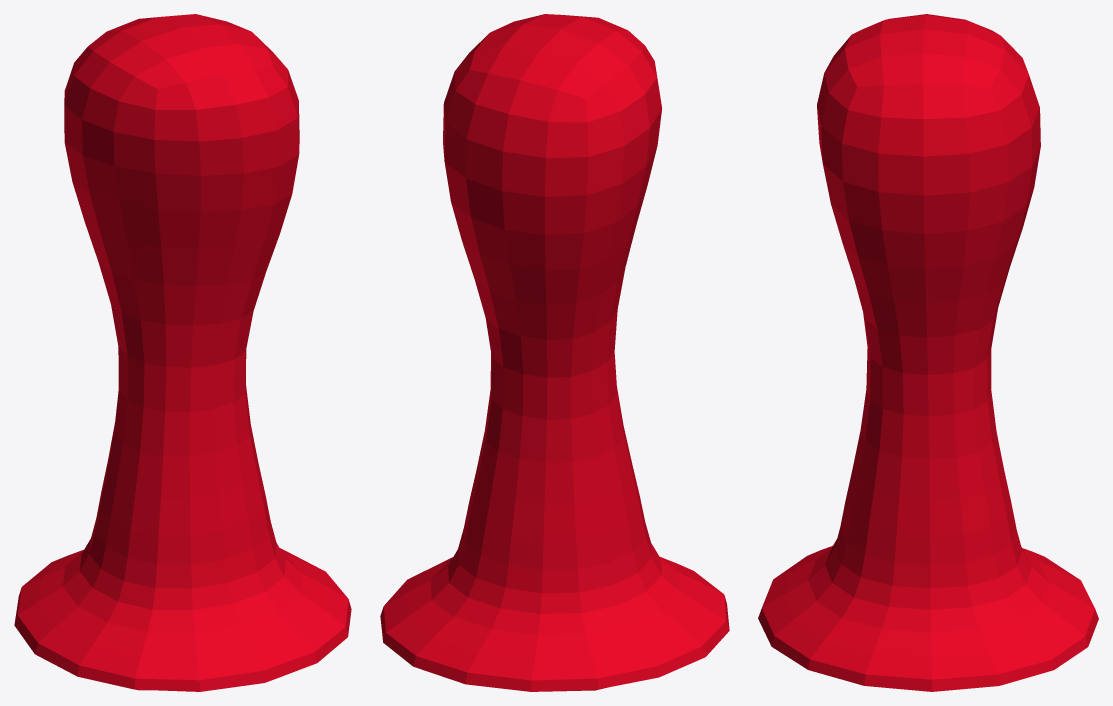
The model's file is boxeo.fbx.
3 views of the same model, side by side, from view 1: azimuth 30°, elevation 25°; view 2: azimuth 150°, elevation 25°; view 3: azimuth 270°, elevation 25° (orthographic).
Visible parts, largest first — view 1: Cube; view 2: Cube; view 3: Cube.
Boxes of the visible parts, <box> form: Cube: <box>14,14,351,691</box>; Cube: <box>380,14,729,691</box>; Cube: <box>758,14,1098,691</box>.
Bounding box in the file's own units: 358 × 696 × 358.
